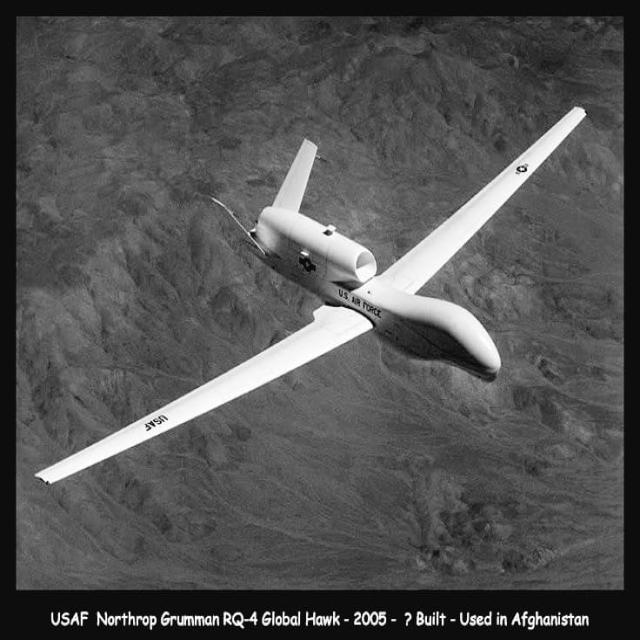iha: (4, 44, 576, 480)
